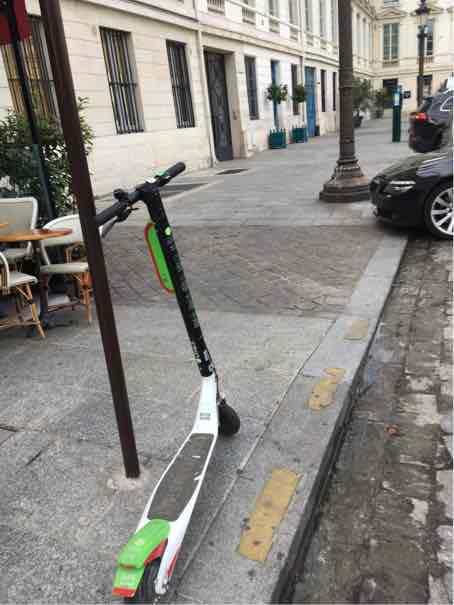scooter: (70, 151, 250, 595)
